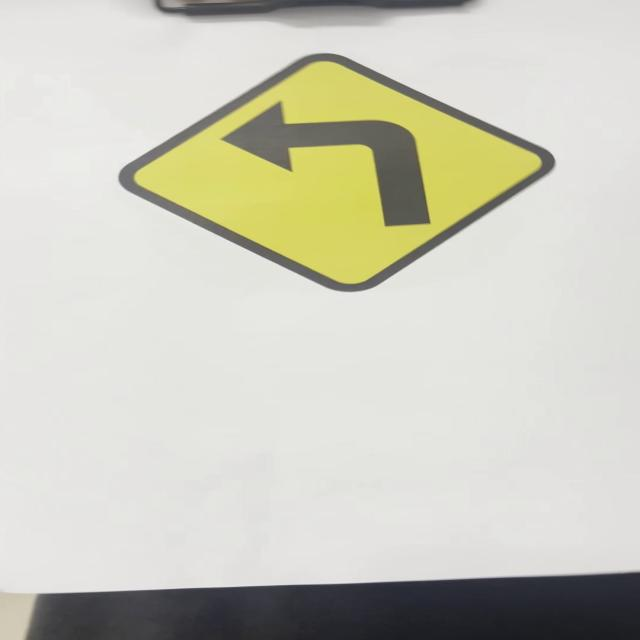left: (121, 54, 559, 292)
